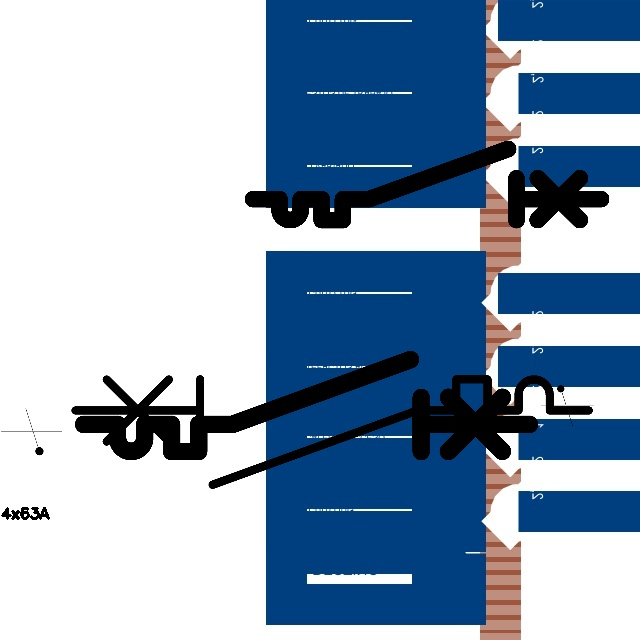interruptor_termomagnetico: (62, 366, 602, 498), (72, 348, 541, 463), (244, 140, 610, 229)
